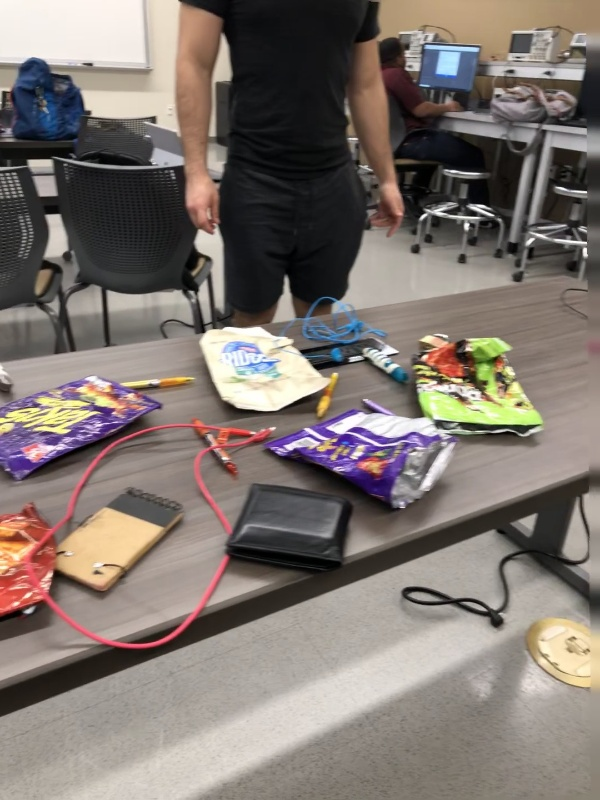bag: (260, 407, 459, 521), (1, 372, 167, 484), (413, 336, 549, 444), (193, 326, 332, 413), (1, 500, 57, 623)
